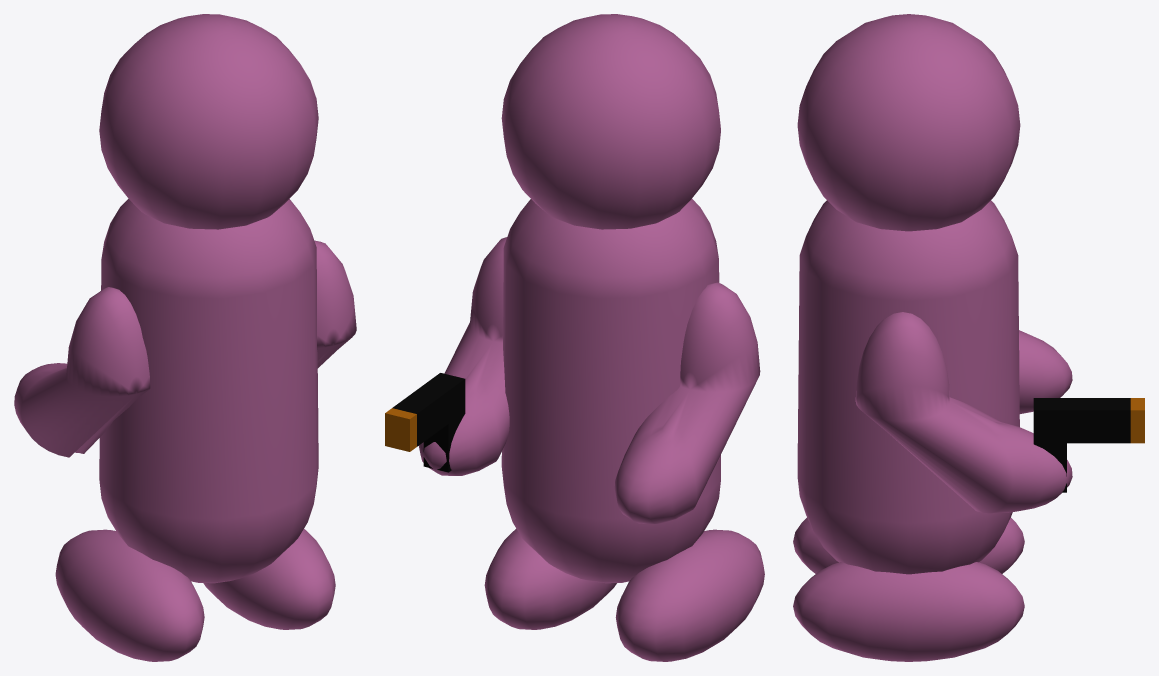
The model's file is player_test.fbx.
The picture shows the model from 3 angles, left to right: view 1: azimuth 30°, elevation 25°; view 2: azimuth 150°, elevation 25°; view 3: azimuth 270°, elevation 25°; orthographic projection.
Visible parts, largest first — view 1: player_whole_test; view 2: player_whole_test; view 3: player_whole_test.
Boxes of the visible parts, left/top/right/bottom form: player_whole_test: left=14, top=14, right=356, bottom=661; player_whole_test: left=385, top=14, right=764, bottom=661; player_whole_test: left=793, top=14, right=1144, bottom=661.
Bounding box in the file's own units: 2.9 × 6.01 × 3.16.
